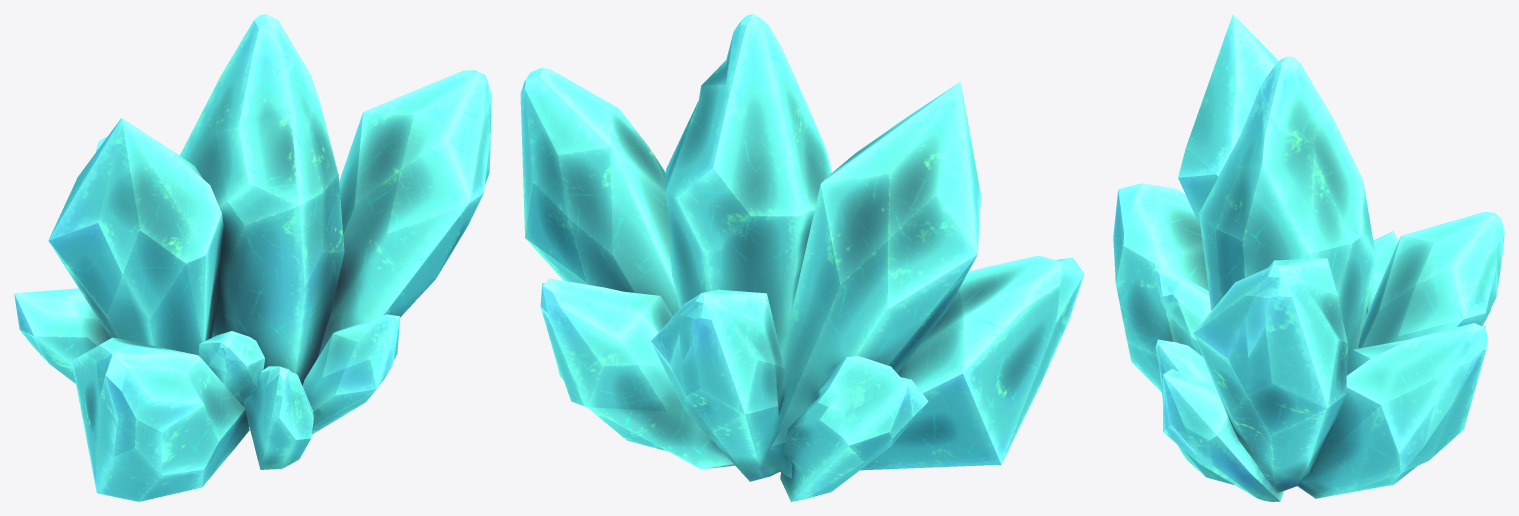
File: thystame.glb
The picture shows the model from 3 angles, left to right: view 1: azimuth 30°, elevation 25°; view 2: azimuth 150°, elevation 25°; view 3: azimuth 270°, elevation 25°; orthographic projection. The views are drawn at different scales.
Parts seen in each view (by area): view 1: Cylinder.006; view 2: Cylinder.006; view 3: Cylinder.006.
Part boxes in pixels (left/top/right/bottom): Cylinder.006: left=14, top=14, right=491, bottom=501; Cylinder.006: left=520, top=14, right=1084, bottom=501; Cylinder.006: left=1113, top=14, right=1504, bottom=501.
Size of the model in its own units: 2.77 by 2.46 by 2.
1 material, 1 textured.
